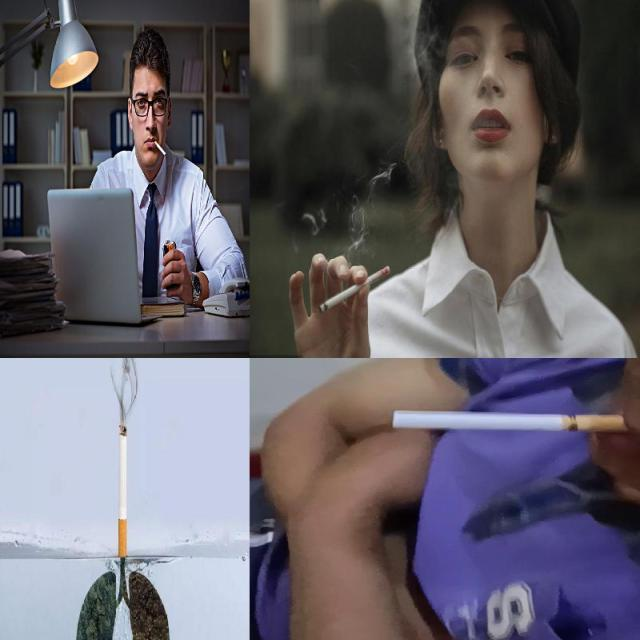smoking: (394, 410, 628, 434), (319, 265, 391, 313), (119, 423, 128, 557), (154, 140, 167, 158)
